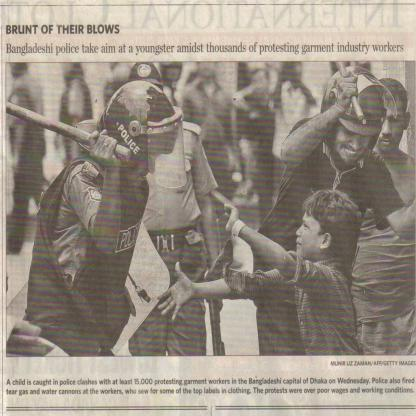face: (335, 111, 371, 163), (120, 147, 159, 185), (377, 100, 404, 150), (297, 209, 320, 259)
